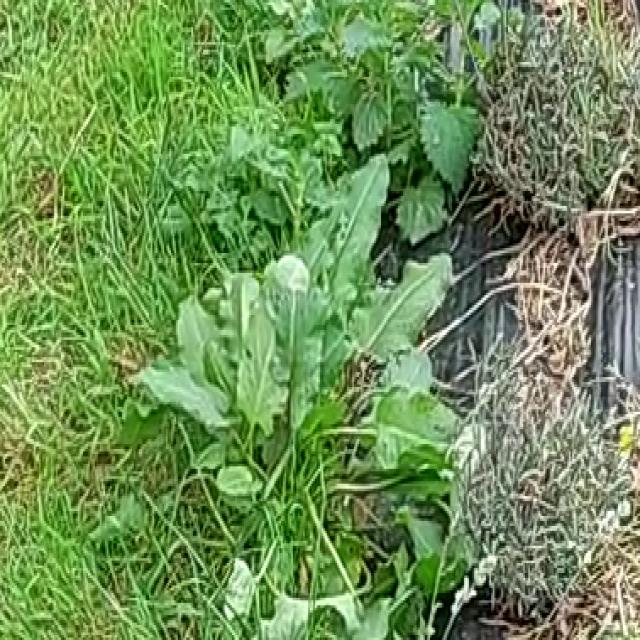organic waste: (126, 176, 460, 576)
